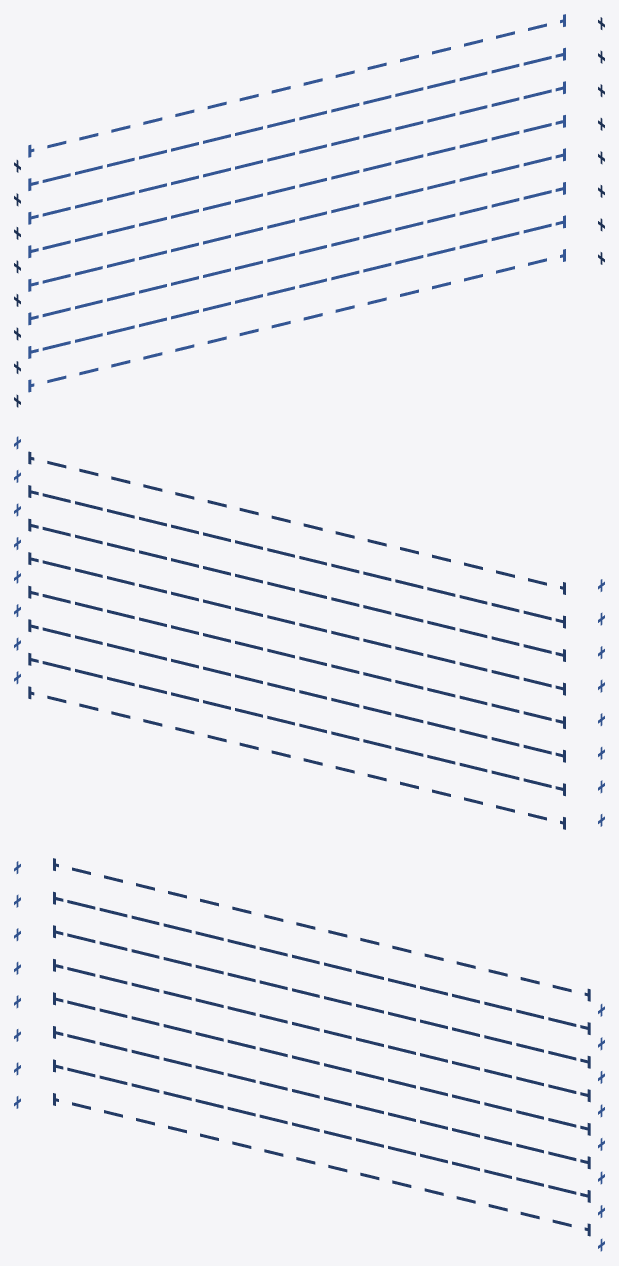
The model's file is Woollett_CompetitionPool_tile_medium_1in.obj.
The picture shows the model from 3 angles, top to bottom: view 1: azimuth 30°, elevation 25°; view 2: azimuth 150°, elevation 25°; view 3: azimuth 330°, elevation 25°; orthographic projection.
Parts seen in each view (by area): view 1: floor_lines_long_medium, wall_pluses; view 2: floor_lines_long_medium, wall_pluses; view 3: floor_lines_long_medium, wall_pluses.
Boxes of the visible parts, box(x1,y1,x2,y2) form: floor_lines_long_medium: box(28, 14, 565, 392); wall_pluses: box(14, 17, 604, 407); floor_lines_long_medium: box(28, 451, 565, 829); wall_pluses: box(14, 436, 604, 826); floor_lines_long_medium: box(53, 858, 590, 1236); wall_pluses: box(14, 861, 604, 1251).
Size of the model in its own units: 49.99 by 20.22 by 2.34.
1 material, 1 textured.
